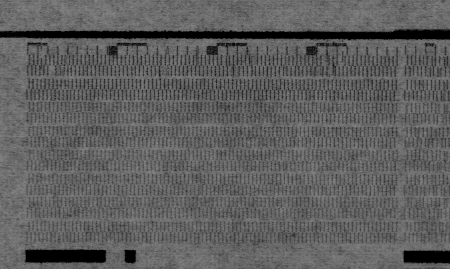Broken hole: (437, 102, 450, 125), (157, 65, 173, 78), (46, 65, 58, 78)
Oblique printing: (405, 126, 450, 246), (311, 52, 348, 80), (421, 52, 450, 80), (227, 53, 253, 78), (434, 77, 450, 101), (36, 54, 48, 69)
